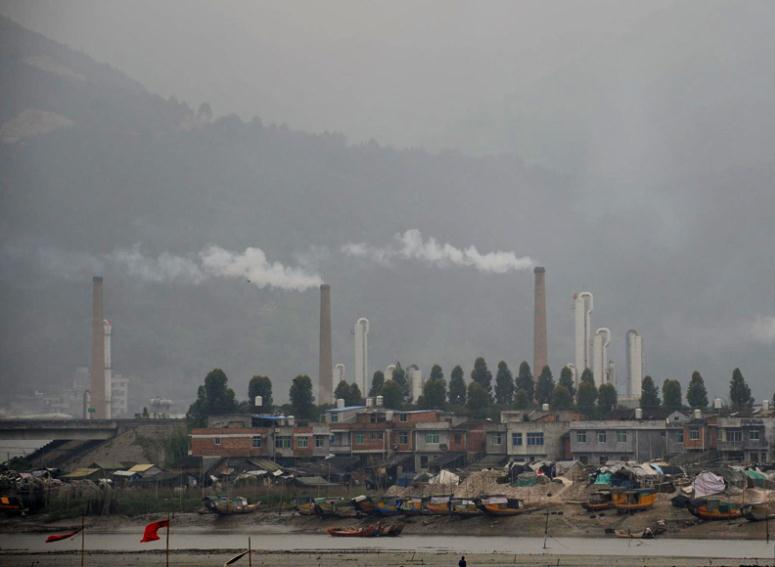dust: (380, 220, 553, 285), (183, 244, 336, 301)
